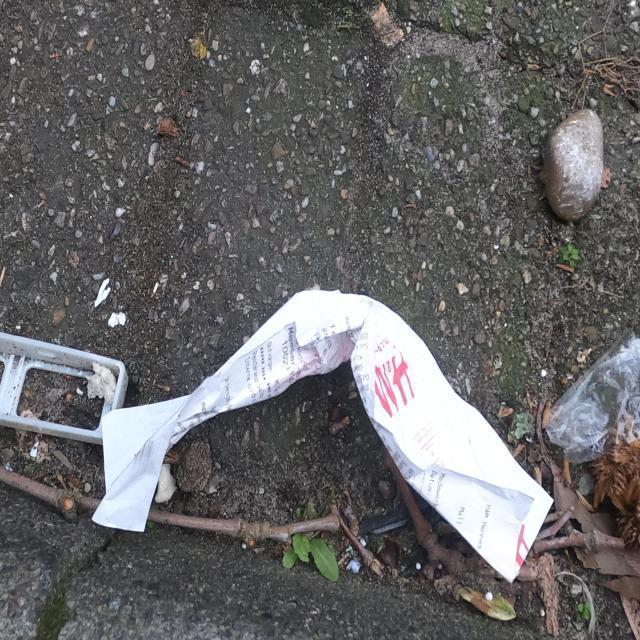Paper: (83, 268, 560, 590)
